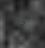two: (19, 19, 23, 28)
